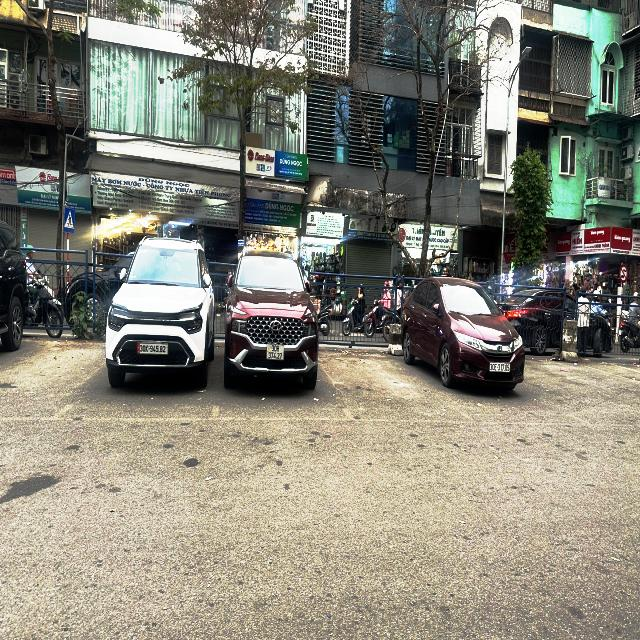license_plate: (138, 341, 169, 356), (267, 344, 286, 362), (490, 361, 511, 374)
